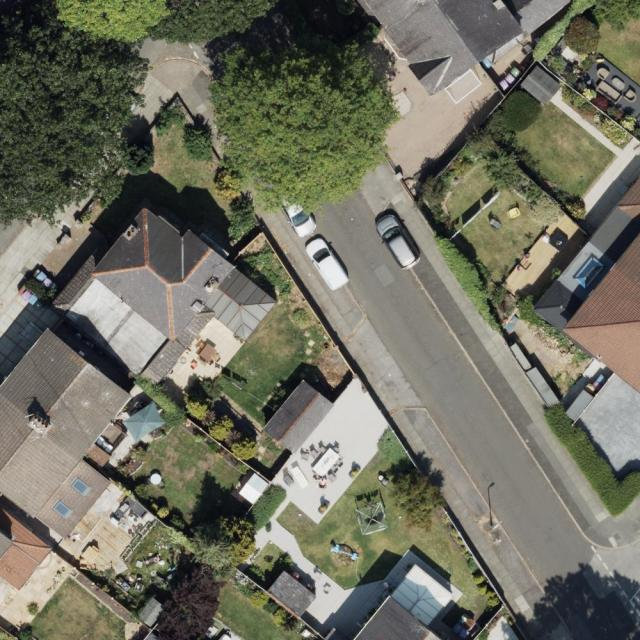roof: (54, 206, 280, 387), (0, 327, 135, 545), (531, 167, 640, 402), (356, 1, 574, 96), (349, 559, 459, 640), (260, 377, 336, 455), (0, 502, 58, 590)
skylight: (569, 249, 610, 294), (50, 496, 76, 523), (71, 476, 93, 497)
